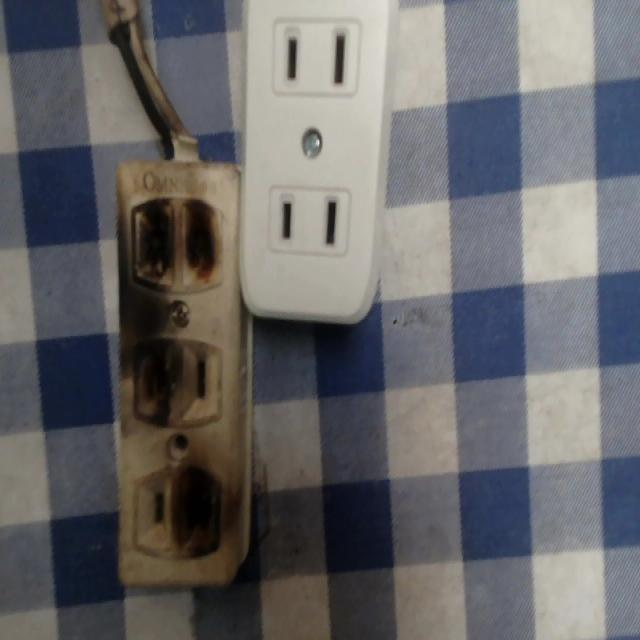-: (126, 190, 235, 294), (118, 333, 181, 435), (165, 458, 223, 554)
